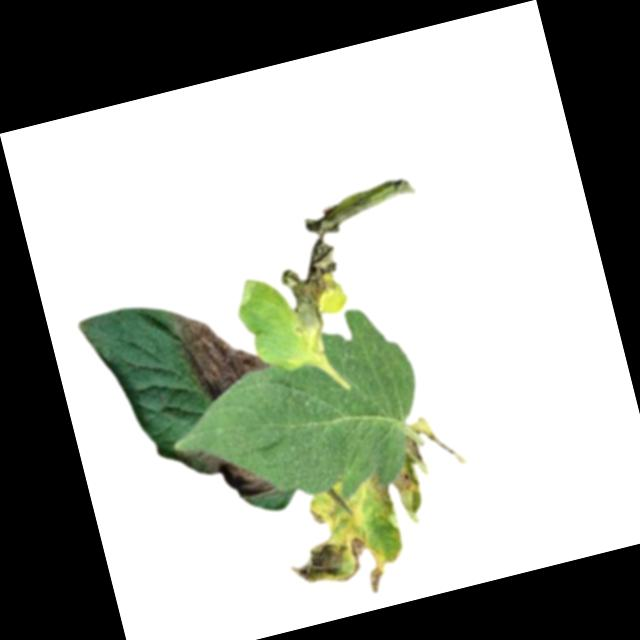Late_blight: (264, 175, 445, 341), (166, 291, 271, 406), (196, 429, 276, 510), (285, 528, 372, 593), (361, 539, 410, 595), (392, 464, 428, 527), (368, 470, 401, 534), (308, 504, 325, 525)
